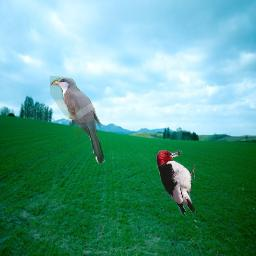Cuckoo: (50, 76, 107, 165)
Woodpecker: (156, 150, 197, 216)
